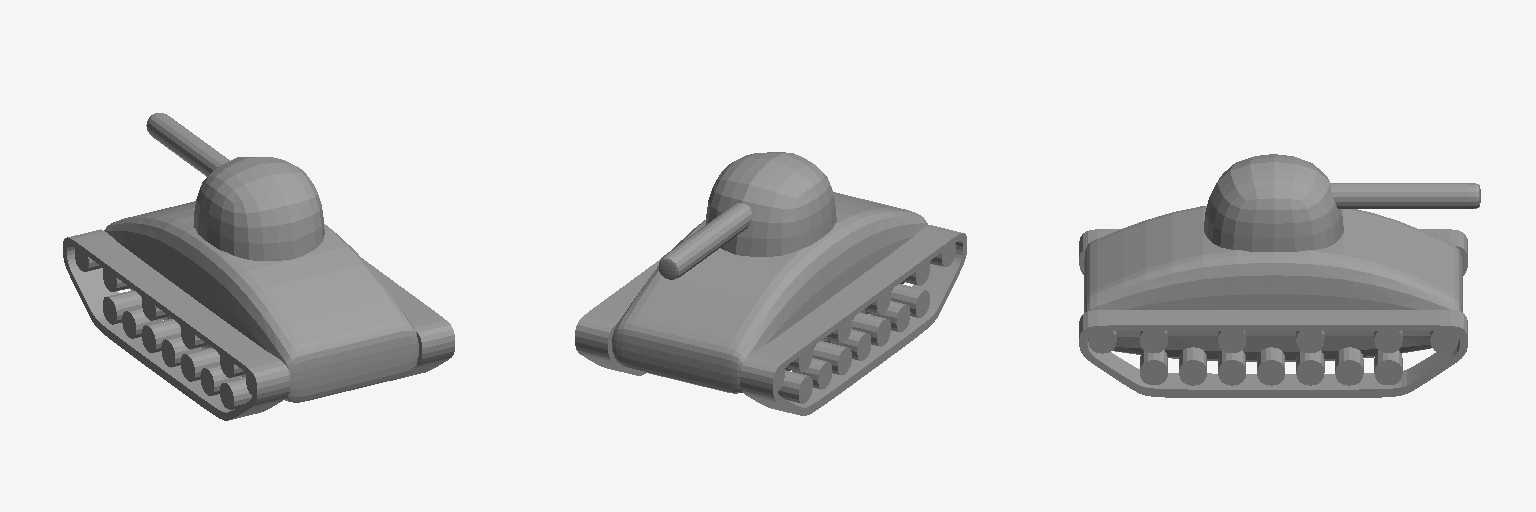
File: Tank.obj
The picture shows the model from 3 angles: view 1: azimuth 30°, elevation 25°; view 2: azimuth 150°, elevation 25°; view 3: azimuth 270°, elevation 25°; orthographic projection.
Parts seen in each view (by area): view 1: Tank_Cube; view 2: Tank_Cube; view 3: Tank_Cube.
Part boxes in pixels (left/top/right/bottom): Tank_Cube: left=63, top=113, right=454, bottom=420; Tank_Cube: left=575, top=152, right=966, bottom=415; Tank_Cube: left=1079, top=154, right=1480, bottom=397.
Size of the model in its own units: 2.34 by 2.12 by 4.11.